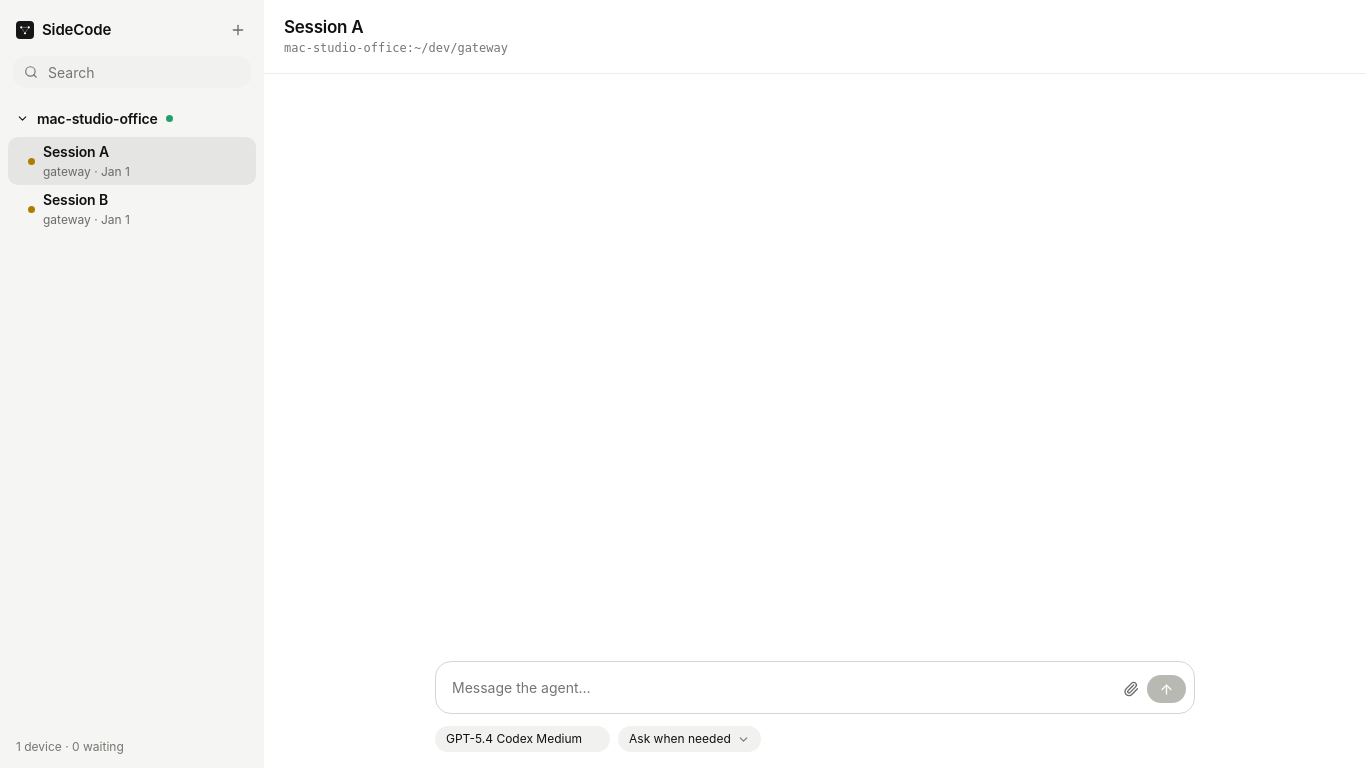
Test: a draft belongs to its session › never offers A’s words as the answer to a question waiting in B
Click the text box labelled "Message the agent…".
click(780, 688)  # box x1=452 y1=670 x2=1109 y2=705
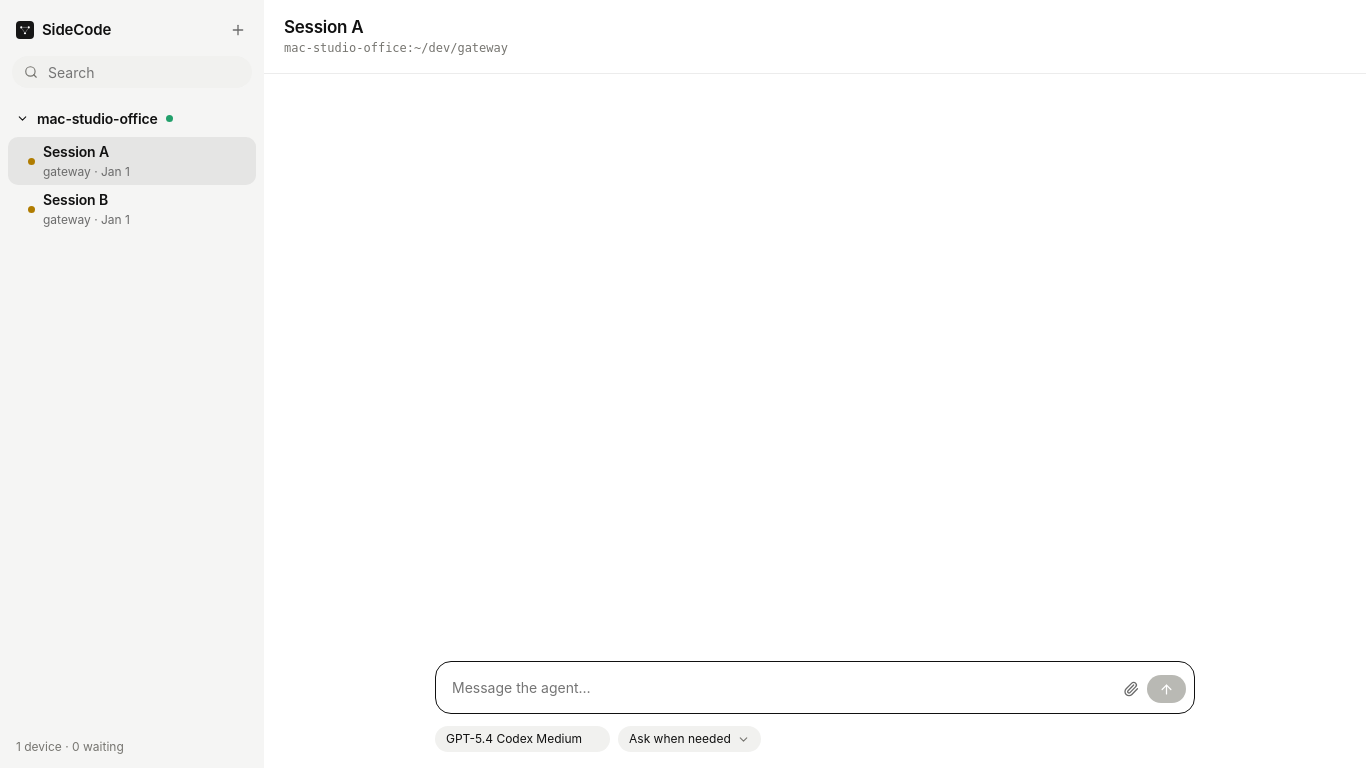
Type keys "secret for session A"
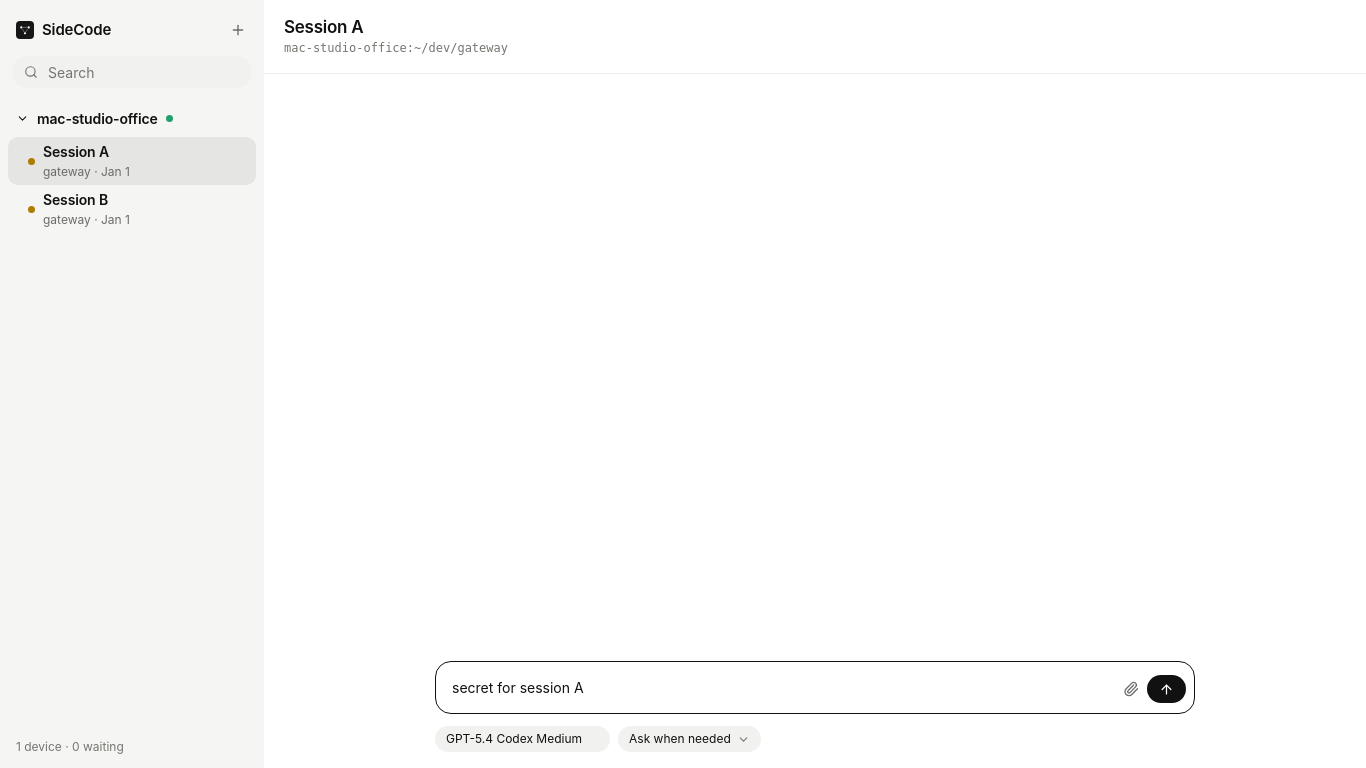
Click the button "Session B gateway · Jan 1".
click(132, 209)  # box x1=8 y1=185 x2=256 y2=233
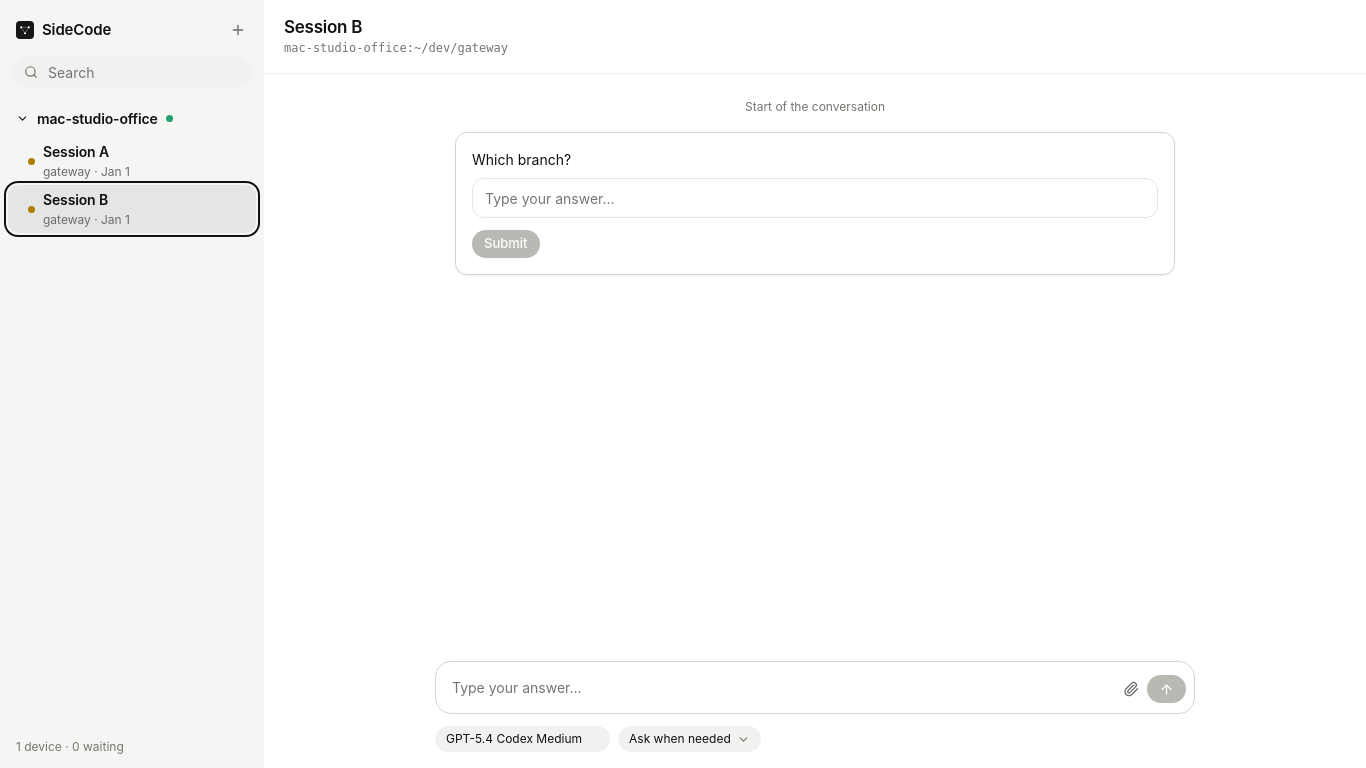
Expected: the text box named "Message the agent…" is empty, x1=452 y1=670 x2=1109 y2=705
Expected: the button named "Send" is disabled, x1=1147 y1=675 x2=1186 y2=703
